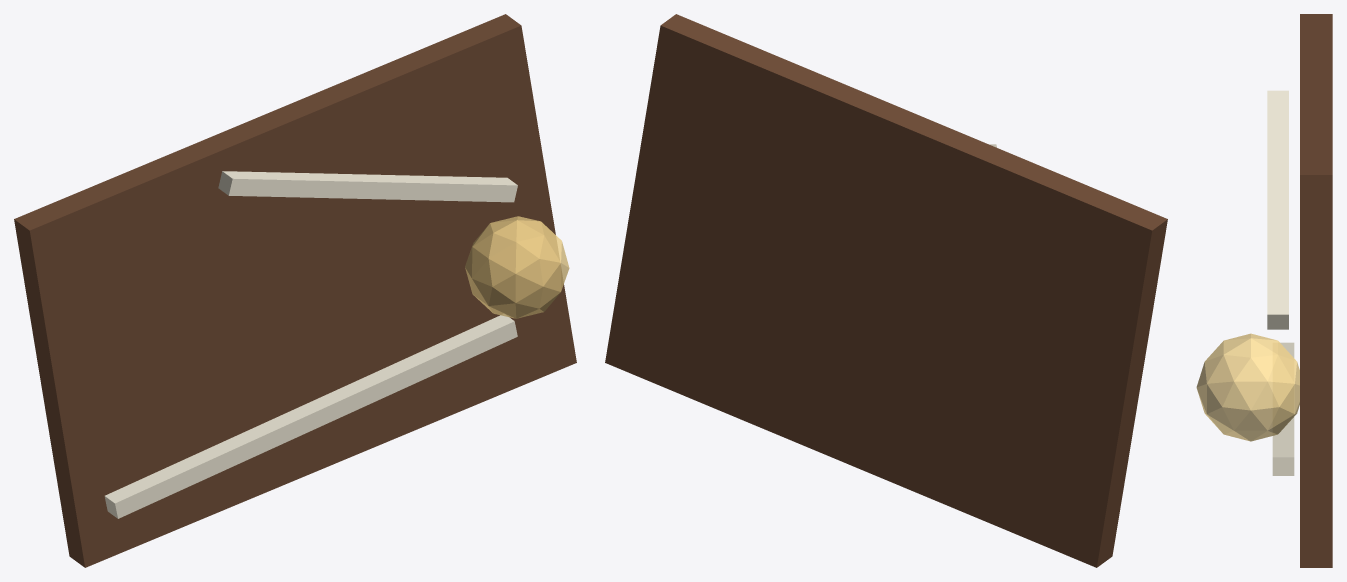
The model's file is 02_world_prop_polish.glb.
The picture shows the model from 3 angles, left to right: view 1: azimuth 30°, elevation 25°; view 2: azimuth 150°, elevation 25°; view 3: azimuth 270°, elevation 25°; orthographic projection. The views are drawn at different scales.
Parts seen in each view (by area): view 1: object_overlay_plate, edge_wear_a, glow_socket, edge_wear_b; view 2: object_overlay_plate; view 3: object_overlay_plate, glow_socket, edge_wear_b, edge_wear_a.
Part boxes in pixels (<box>): object_overlay_plate: <box>14,14,576,567</box>; edge_wear_a: <box>104,314,517,518</box>; glow_socket: <box>465,216,569,318</box>; edge_wear_b: <box>218,171,517,202</box>; object_overlay_plate: <box>605,14,1167,567</box>; object_overlay_plate: <box>1300,14,1332,567</box>; glow_socket: <box>1196,333,1299,441</box>; edge_wear_b: <box>1267,90,1288,329</box>; edge_wear_a: <box>1272,342,1294,475</box>.
Size of the model in its own units: 1.21 by 0.9195 by 0.25.
